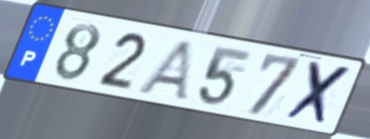2: (97, 31, 151, 91)
5: (196, 44, 255, 108)
7: (248, 49, 305, 118)
8: (51, 20, 103, 84)
A: (134, 39, 196, 104)
X: (282, 59, 356, 129)
